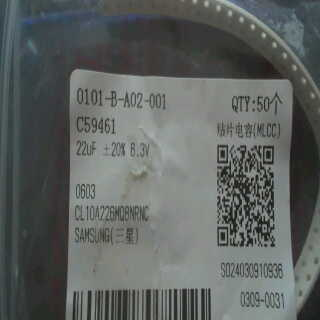22uF: (73, 137, 98, 159)
